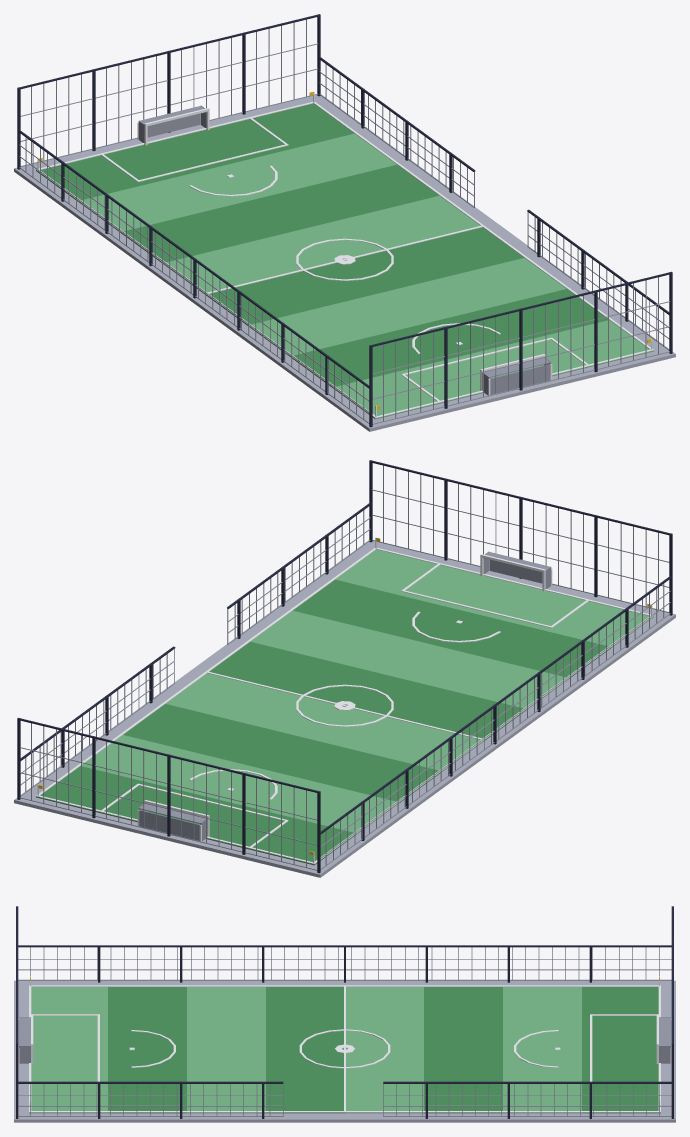
Rendered from foot5-2x4.glb.
3 renders of one model, top to bottom at view 1: azimuth 30°, elevation 25°; view 2: azimuth 150°, elevation 25°; view 3: azimuth 270°, elevation 25°, orthographic. The views are drawn at different scales.
Parts seen in each view (by area): view 1: foot5-2x4; view 2: foot5-2x4; view 3: foot5-2x4.
Part boxes in pixels (bbox=[...]): foot5-2x4: bbox=[14, 14, 675, 431]; foot5-2x4: bbox=[14, 460, 675, 877]; foot5-2x4: bbox=[14, 906, 675, 1122].
Size of the model in its own units: 1.98 by 0.52 by 3.98.
1 material, 1 textured.
